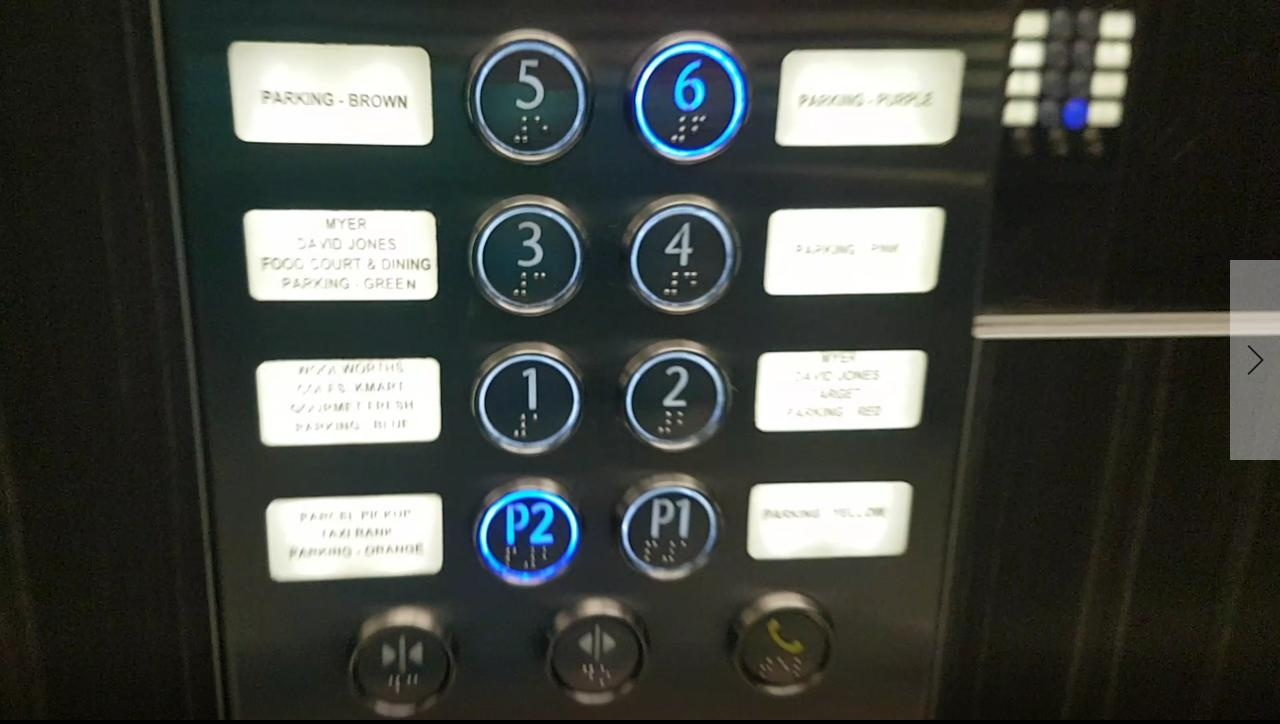1: (470, 338, 590, 460)
2: (615, 338, 734, 456)
3: (461, 190, 591, 319)
4: (615, 190, 746, 319)
5: (461, 23, 599, 169)
6: (621, 25, 757, 166)
P1: (614, 471, 727, 587)
P2: (470, 471, 590, 589)
call: (722, 587, 840, 702)
close: (339, 597, 460, 724)
open: (537, 593, 653, 708)
